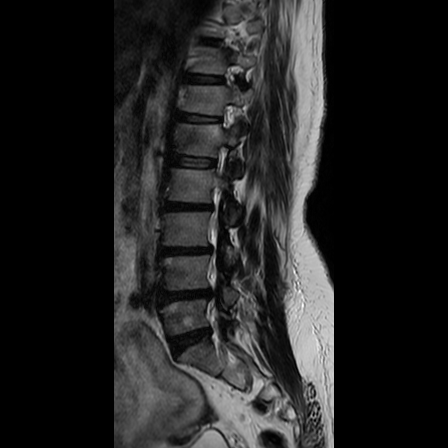RFS0: (201, 137, 238, 179)
